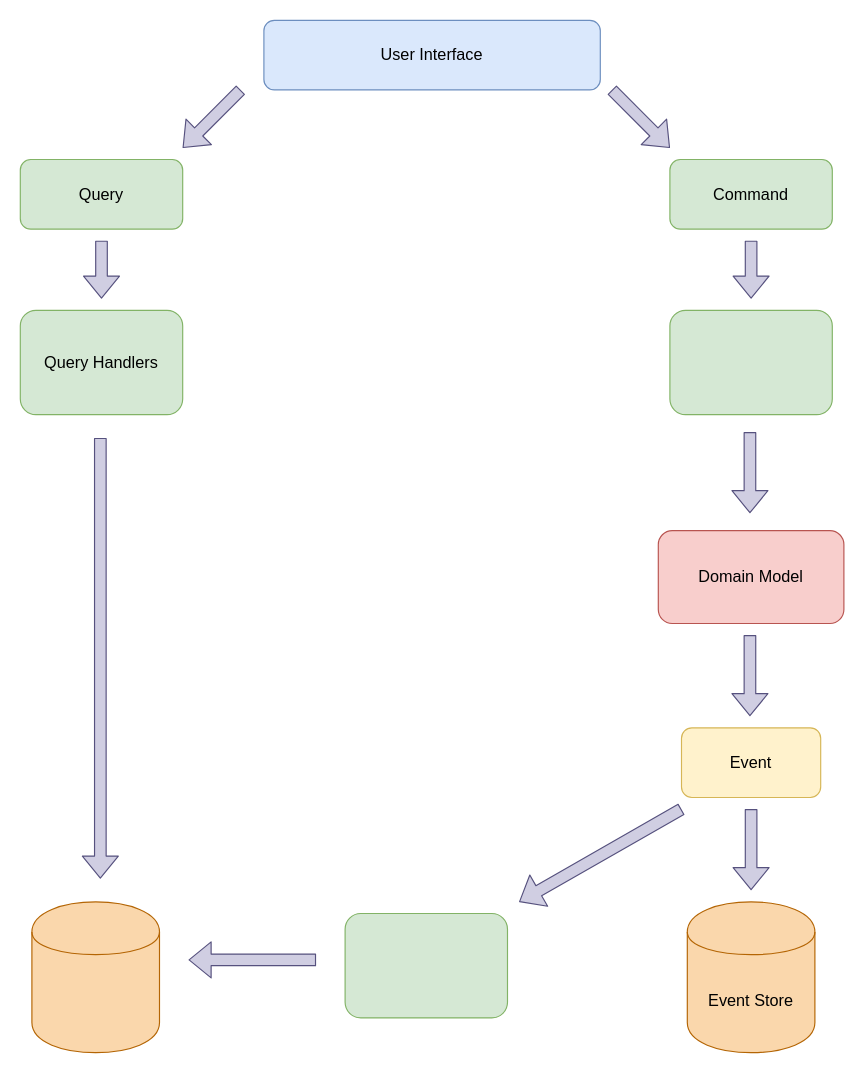
Some shapes in this 864 by 1073 pixel diagram are drawn without their labels. The shapes that lost their labels are listed below. From the top down, each one's centre as x and y in pixels, then its label:
At point 750,362: "Command Handlers".
At point 95,977: "Read DB".
At point 425,965: "Event Handlers".
